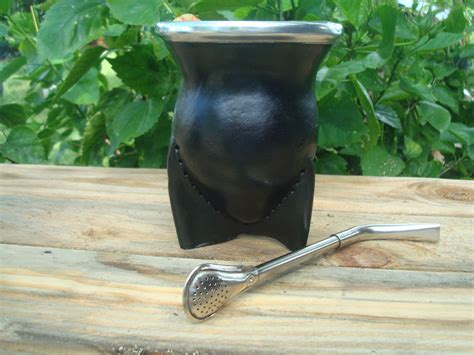cuero: (160, 38, 334, 250)
